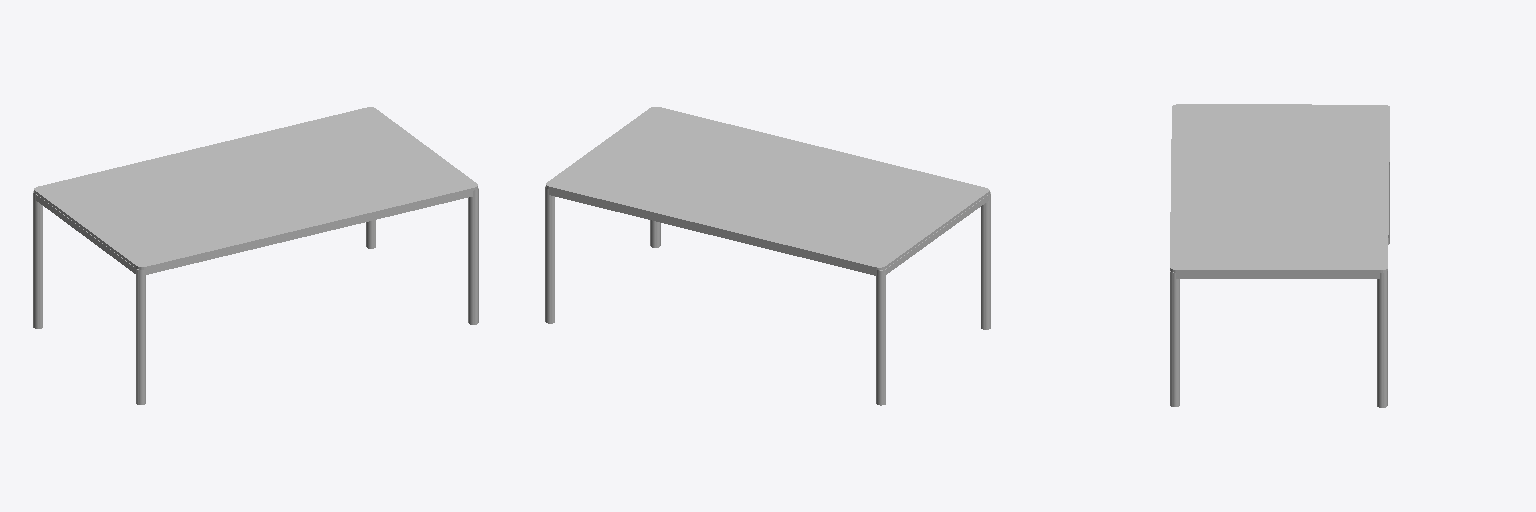
The model's file is models.obj.
3 views of the same model, side by side, from view 1: azimuth 30°, elevation 25°; view 2: azimuth 150°, elevation 25°; view 3: azimuth 270°, elevation 25° (orthographic).
Parts seen in each view (by area): view 1: Loft01; view 2: Loft01; view 3: Loft01.
Part boxes in pixels (x1,y1,x2,y2): Loft01: (33,107,478,404); Loft01: (545,107,990,405); Loft01: (1170,104,1389,407).
Bounding box in the file's own units: 2772 × 1067 × 1550.